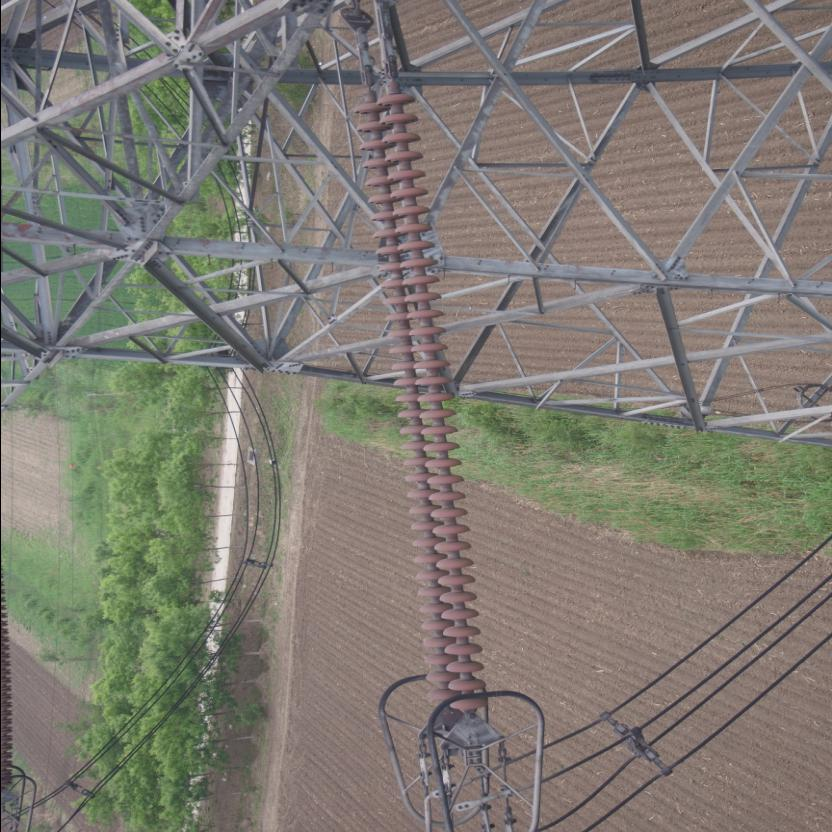insulator: (350, 59, 487, 725)
